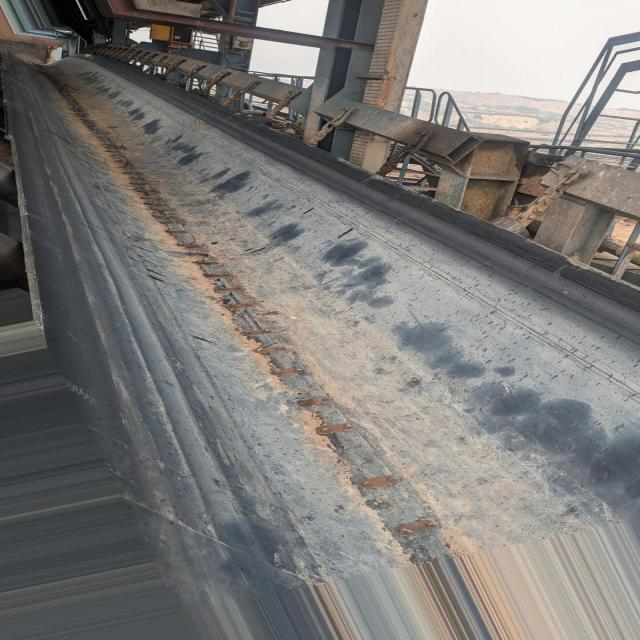Roller: (0, 232, 28, 289), (0, 161, 18, 206)
patch work: (34, 69, 458, 573)
